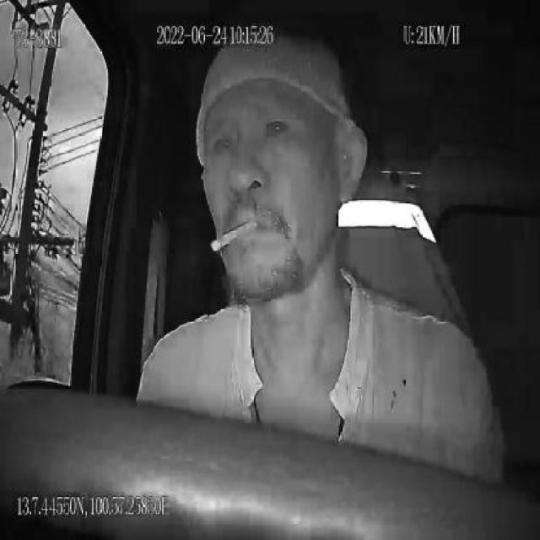smoking: (208, 218, 256, 252)
